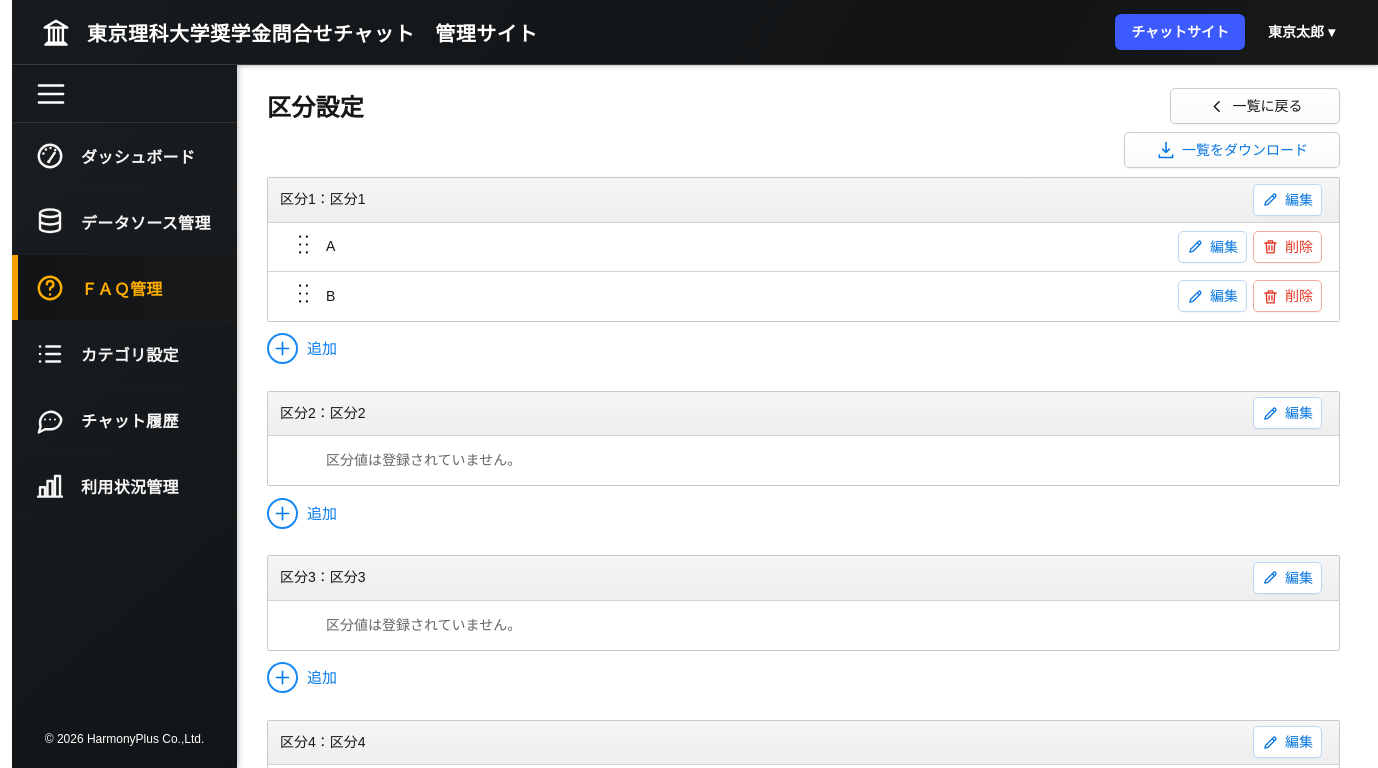
Test: CB-212 FAQ classifications › ラベル編集を保存・キャンセルできる
This screenshot has width=1378, height=768.
Expected: the text "A" is shown, [326,222,1131,272]
Click the 1st button "編集".
click(1288, 200)  # box [1253,184,1322,216]
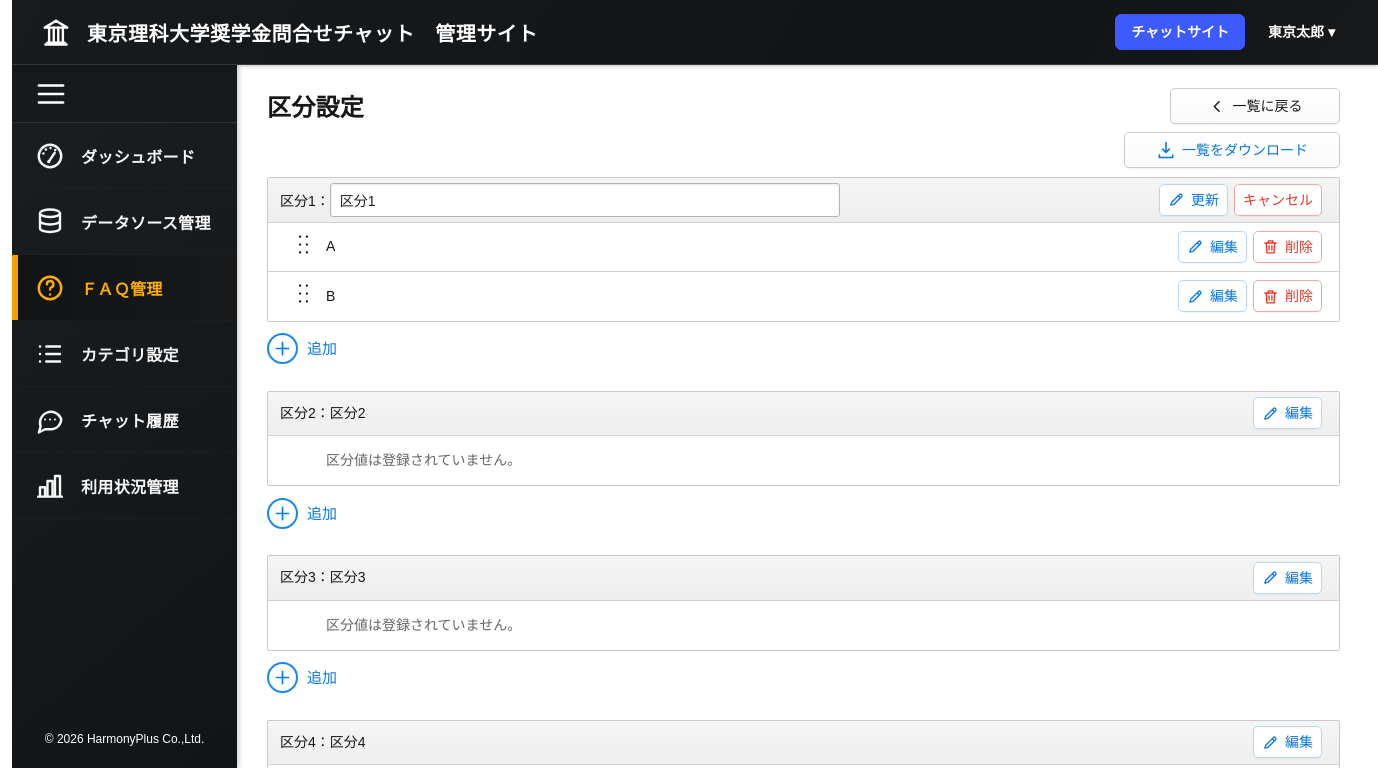
Replace the text in the field named "区分1の区分ラベル名" with "問合せ区分" at (585,200), box [330,183,840,217]
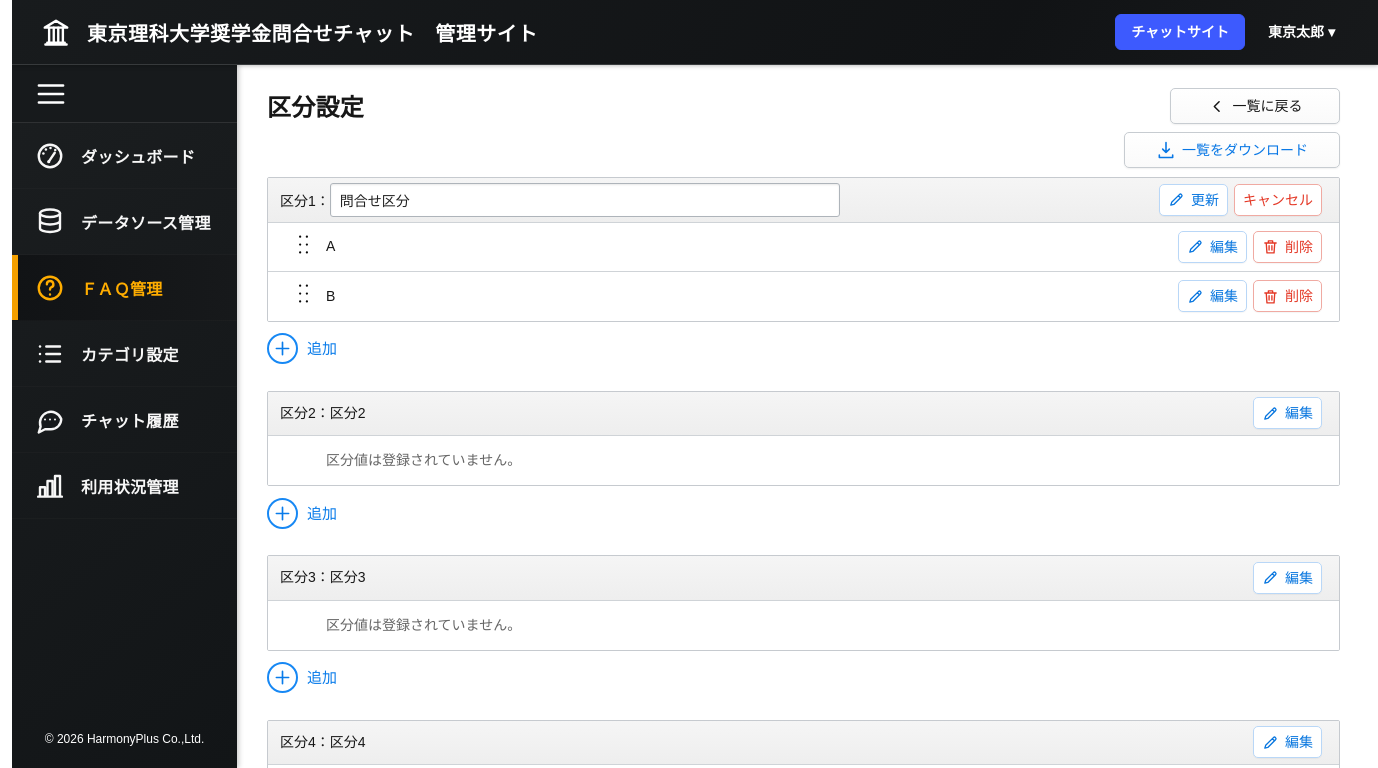
Click the button "更新".
click(1194, 200)  # box [1159,184,1228,216]
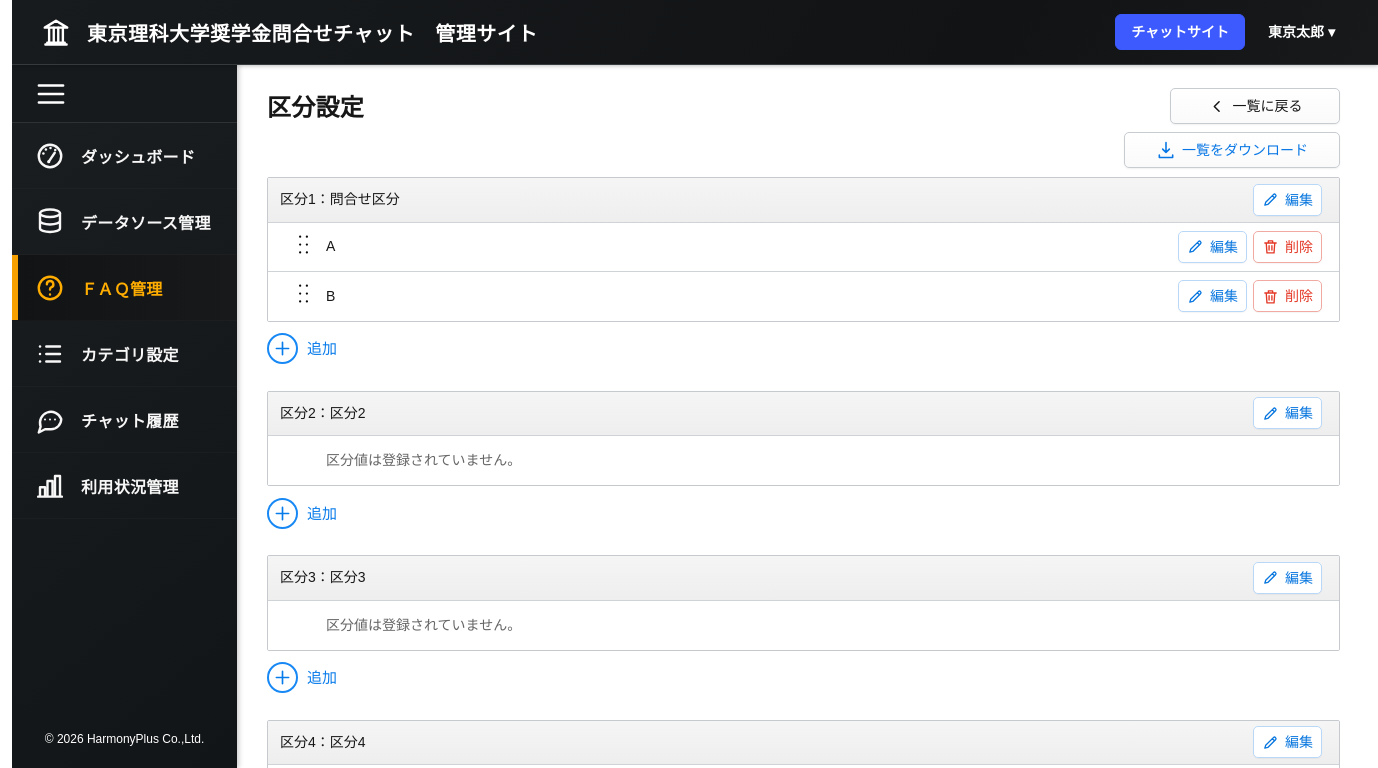
Now the column heading "問合せ区分" is shown, box [330,191,400,207]
Click the button "編集" in the row of "区分1".
click(1288, 200)  # box [1253,184,1322,216]
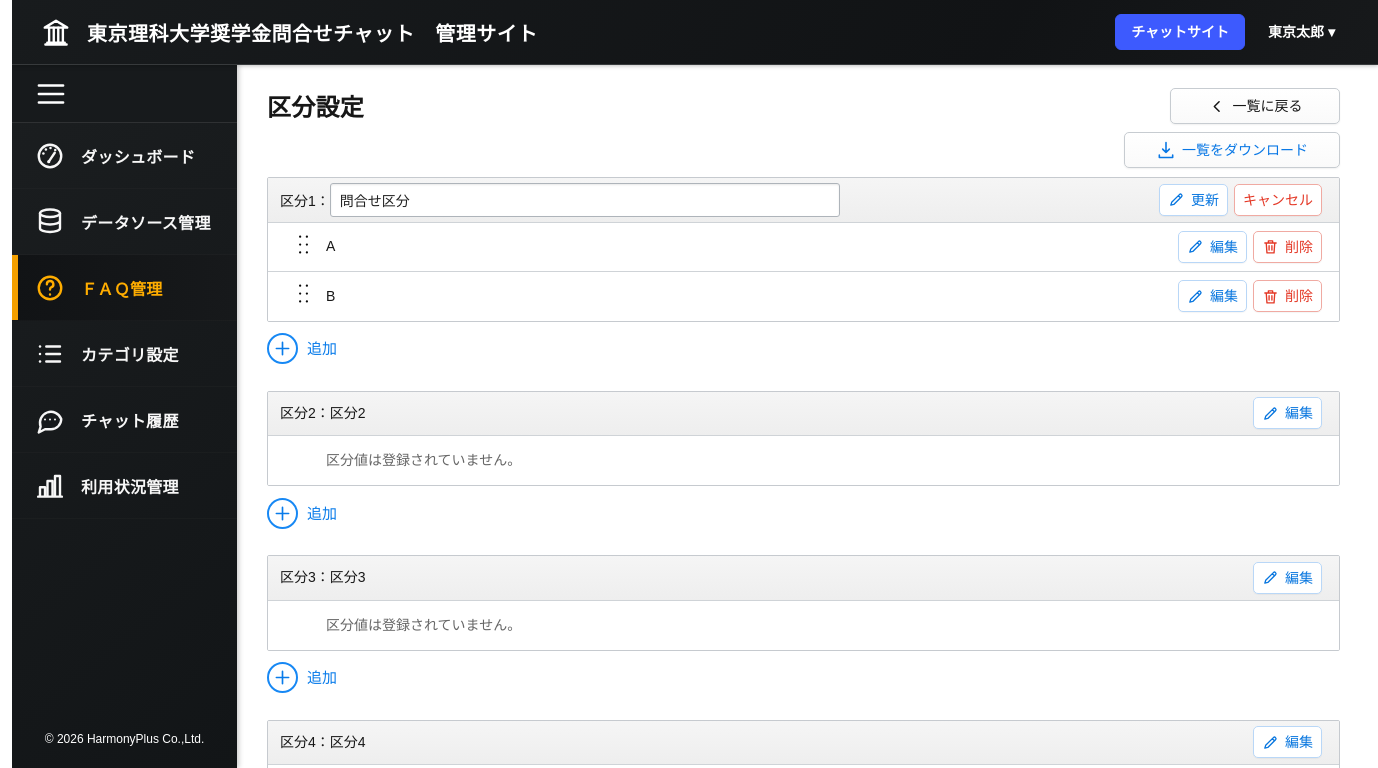
Click the button "キャンセル".
click(1278, 200)  # box [1234,184,1322,216]
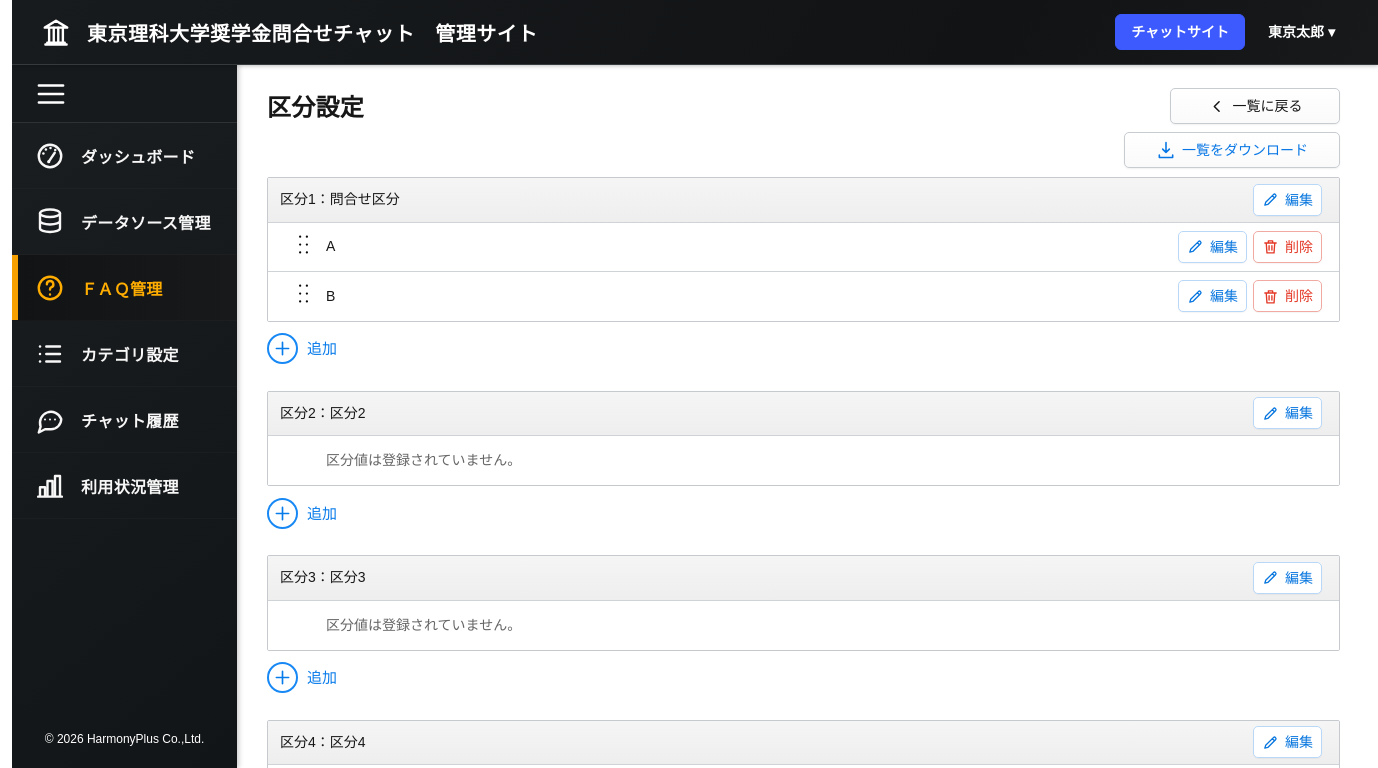
Now the field labelled "区分1の区分ラベル名" is gone
